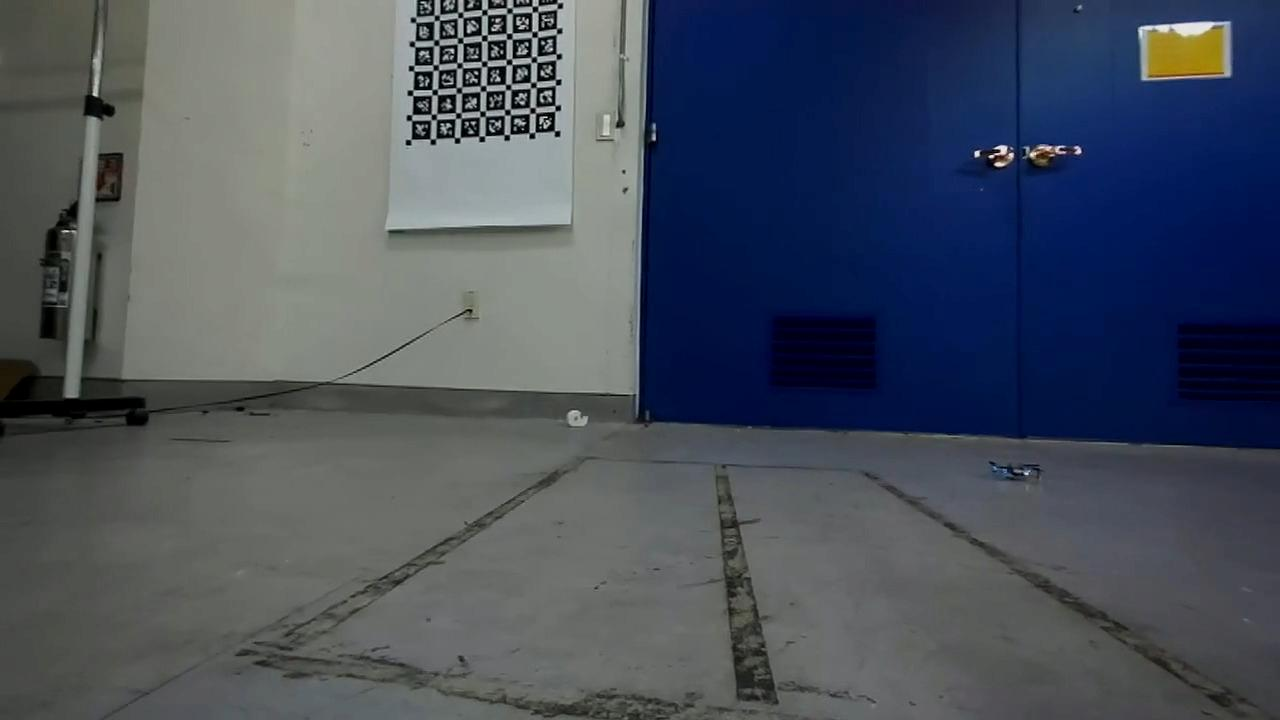crazyflie: (985, 456, 1046, 486)
